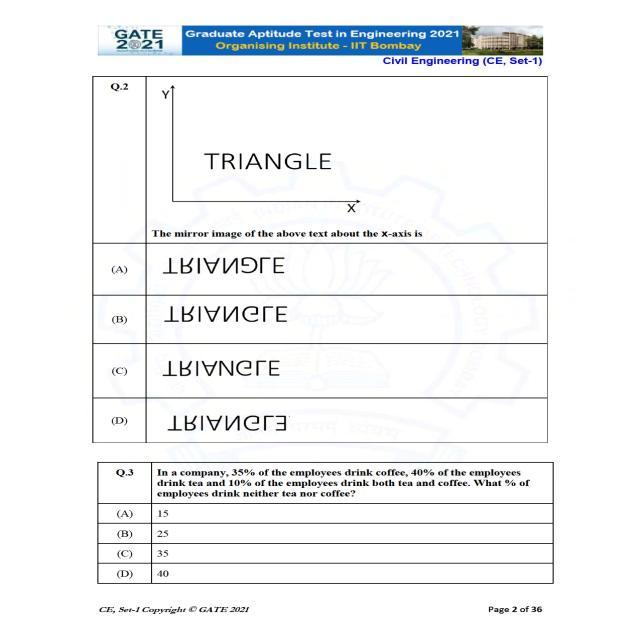Answer_Block: (93, 244, 548, 442), (98, 506, 550, 582)
Question_Answer_Block: (93, 75, 550, 442), (98, 460, 553, 582)
Question_Block: (95, 75, 550, 239), (98, 459, 554, 502)
Question_Paper_Area: (92, 74, 553, 586)
